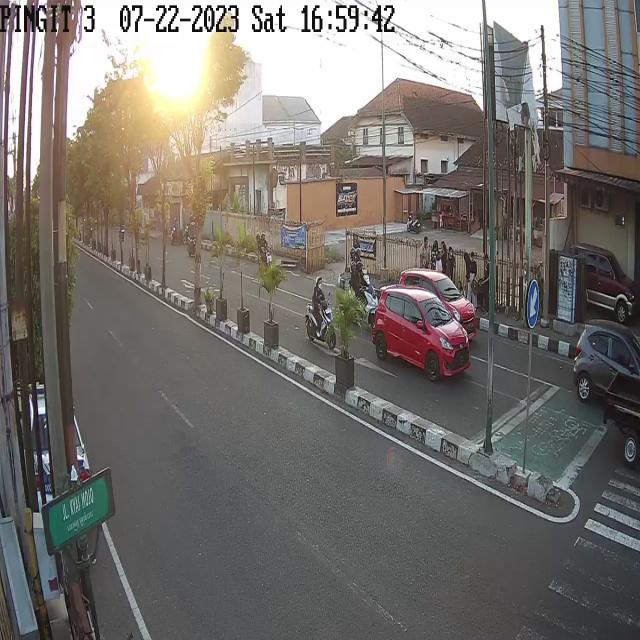car: (573, 321, 640, 469), (374, 286, 476, 380), (576, 245, 635, 327), (398, 268, 476, 330)
motorcycle: (306, 270, 337, 352), (346, 262, 376, 327), (345, 245, 371, 298), (255, 231, 272, 283)
